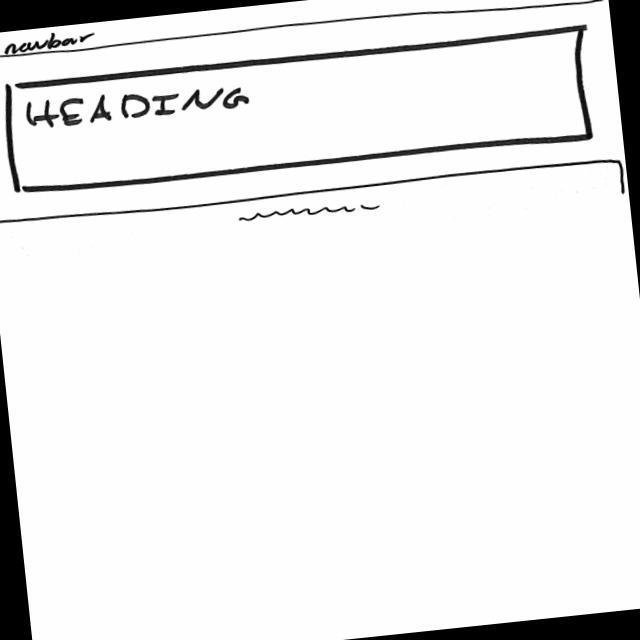container: (1, 22, 595, 201), (1, 1, 609, 68)
label: (25, 77, 252, 133), (2, 28, 100, 56)
text: (238, 198, 383, 225)
